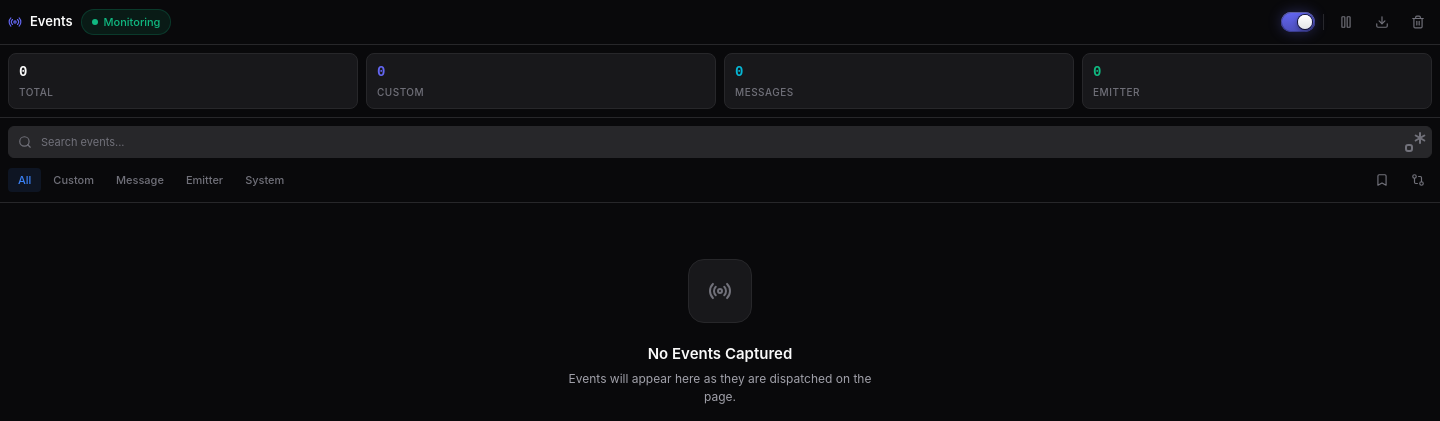
Test: EventsTab › pauses capture of live events and resumes
The width and height of the screenshot is (1440, 421).
Click the button titled "Pause".
click(1346, 22)  # box [1332,8,1360,36]
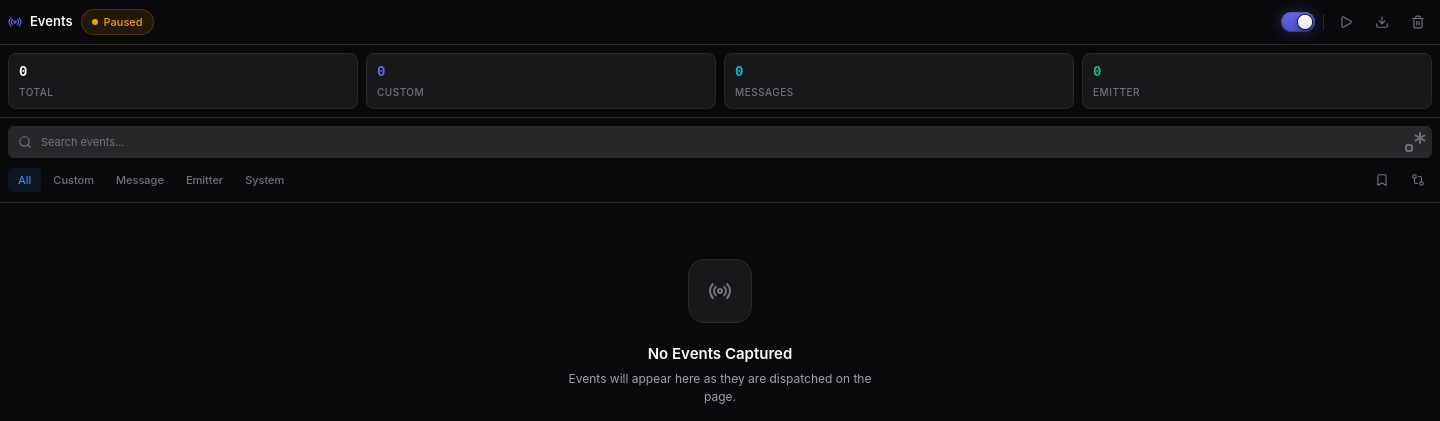
Check: the text "Paused" is shown, box [80,9,154,35]
Click the button titled "Resume".
click(1346, 22)  # box [1332,8,1360,36]
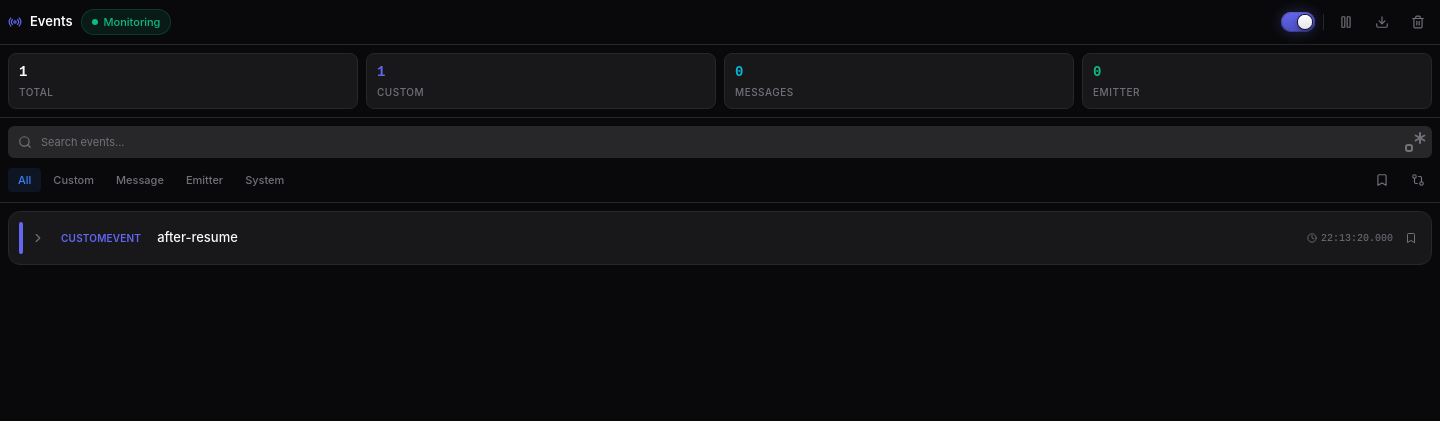
Check: the text "after-resume" is shown, box [157,229,238,245]
